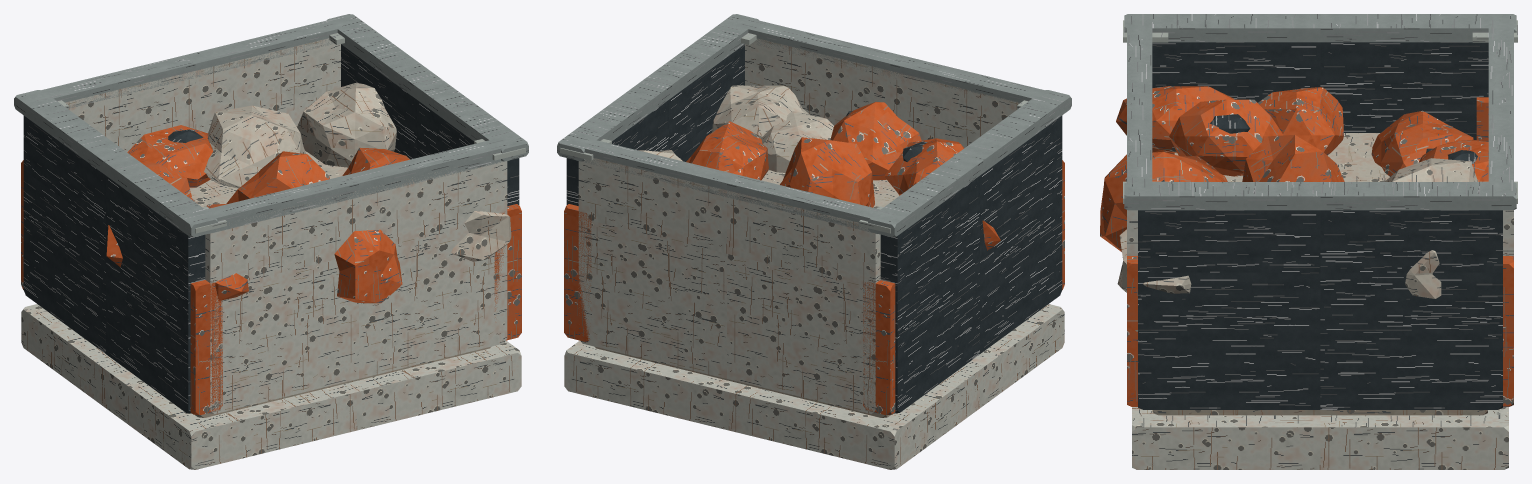
Rendered from ore_bin.glb.
3 views of the same model, side by side, from view 1: azimuth 30°, elevation 25°; view 2: azimuth 150°, elevation 25°; view 3: azimuth 270°, elevation 25° (orthographic). The views are drawn at different scales.
Visible parts, largest first — view 1: front_rear_wall_+0.21_rover_white, sidewall_-0.23_graphite, ore_bin_foundation_rover_white, front_rear_wall_-0.21_rover_white, upper_lip_+0.21_alloy, lip_-0.23_alloy, upper_lip_-0.21_alloy, lip_+0.23_alloy, angular_iron_ore_7_warm_shell, angular_iron_ore_1_warm_shell, sidewall_+0.23_graphite, corner_wear_2_orange (+10 smaller); view 2: front_rear_wall_-0.21_rover_white, sidewall_-0.23_graphite, ore_bin_foundation_rover_white, front_rear_wall_+0.21_rover_white, lip_-0.23_alloy, upper_lip_-0.21_alloy, lip_+0.23_alloy, sidewall_+0.23_graphite, upper_lip_+0.21_alloy, angular_iron_ore_5_orange, angular_iron_ore_9_orange, corner_wear_0_orange (+7 smaller); view 3: sidewall_+0.23_graphite, sidewall_-0.23_graphite, ore_bin_foundation_rover_white, lip_+0.23_alloy, lip_-0.23_alloy, angular_iron_ore_3_orange, upper_lip_+0.21_alloy, upper_lip_-0.21_alloy, angular_iron_ore_8_orange, angular_iron_ore_5_orange, angular_iron_ore_9_orange, angular_iron_ore_0_orange (+13 smaller).
Boxes of the visible parts, x1,y1,x2,y2 form: front_rear_wall_+0.21_rover_white: (205,161,507,413); sidewall_-0.23_graphite: (23,115,205,413); ore_bin_foundation_rover_white: (21,304,521,469); front_rear_wall_-0.21_rover_white: (65,38,340,151); upper_lip_+0.21_alloy: (196,138,510,233); lip_-0.23_alloy: (14,90,217,237); upper_lip_-0.21_alloy: (32,19,344,108); lip_+0.23_alloy: (326,14,528,161); angular_iron_ore_7_warm_shell: (297,82,396,167); angular_iron_ore_1_warm_shell: (204,105,305,188); sidewall_+0.23_graphite: (341,44,519,205); corner_wear_2_orange: (190,280,222,415); front_rear_wall_-0.21_rover_white: (578,158,880,413); sidewall_-0.23_graphite: (880,115,1062,413); ore_bin_foundation_rover_white: (564,304,1064,469); front_rear_wall_+0.21_rover_white: (745,38,1019,147); lip_-0.23_alloy: (868,90,1071,237); upper_lip_-0.21_alloy: (575,138,889,233); lip_+0.23_alloy: (557,14,759,161); sidewall_+0.23_graphite: (566,44,744,205); upper_lip_+0.21_alloy: (740,20,1053,103); angular_iron_ore_5_orange: (780,137,874,207); angular_iron_ore_9_orange: (830,102,921,180); corner_wear_0_orange: (863,280,895,415); sidewall_+0.23_graphite: (1138,210,1502,409); sidewall_-0.23_graphite: (1152,42,1488,139); ore_bin_foundation_rover_white: (1132,407,1508,469); lip_+0.23_alloy: (1124,182,1516,210); lip_-0.23_alloy: (1124,14,1516,42); angular_iron_ore_3_orange: (1169,99,1283,176); upper_lip_+0.21_alloy: (1127,22,1152,187); upper_lip_-0.21_alloy: (1488,22,1513,187); angular_iron_ore_8_orange: (1258,87,1343,155); angular_iron_ore_5_orange: (1242,135,1344,181); angular_iron_ore_9_orange: (1100,151,1227,251); angular_iron_ore_0_orange: (1371,110,1473,176).
Size of the model in its own units: 0.5179 by 0.3565 by 0.49.
7 materials, 7 textured.
